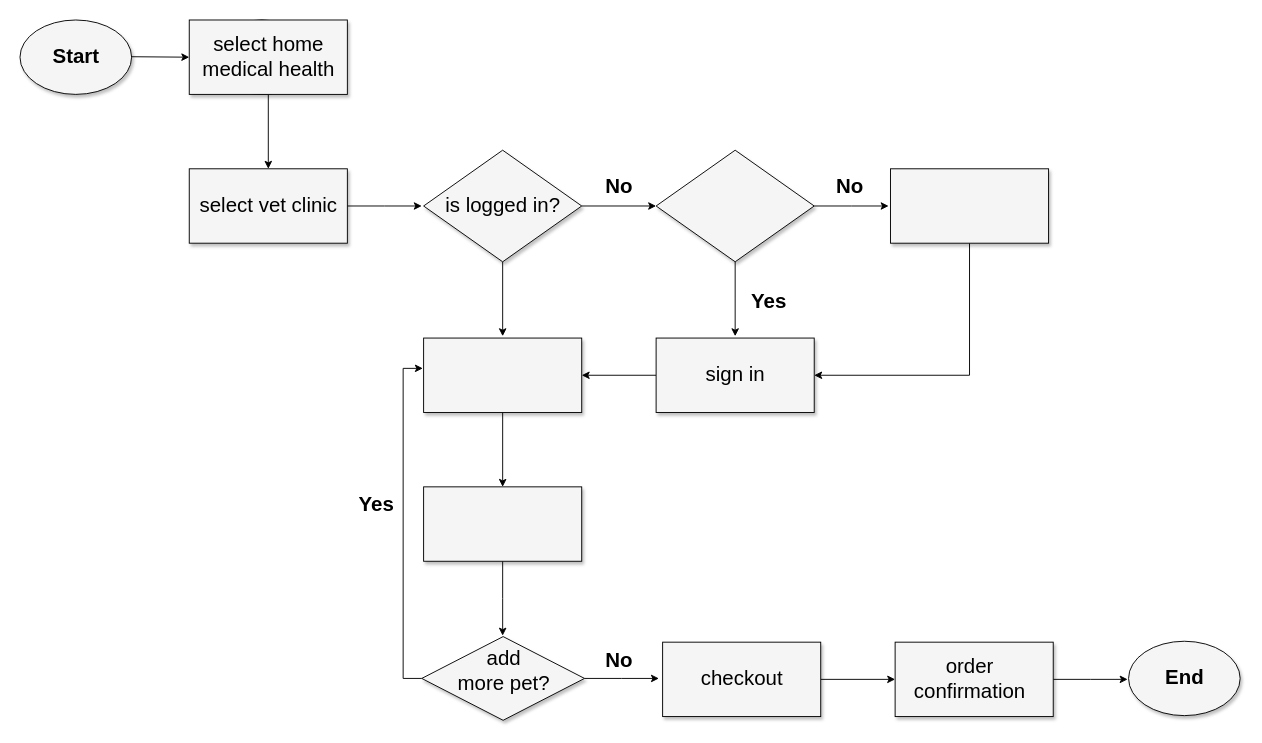
This 1262x743 diagram has some shape labels left out. The shapes that lost their labels are listed below. From the top down, each one's centre as x and y in pixels, then its label:
At point (735, 207): "have account?".
At point (970, 207): "sign up".
At point (503, 376): "select pets type".
At point (503, 525): "add services".
